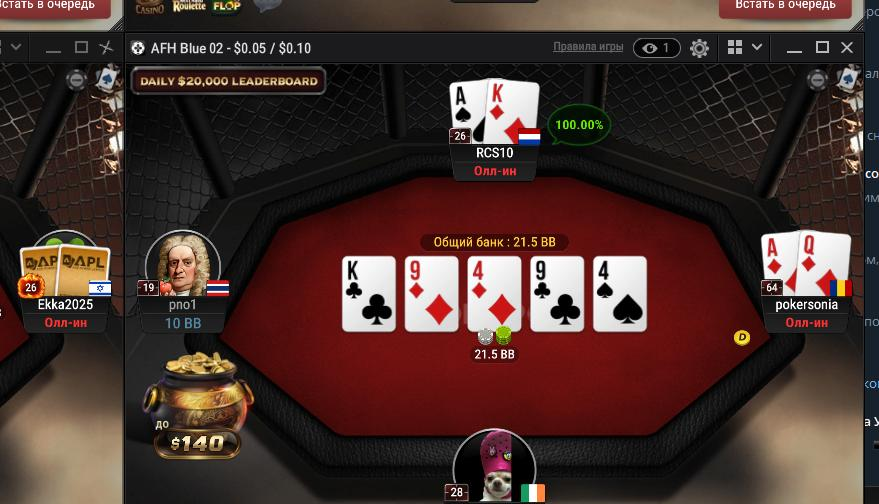4d: (467, 256, 521, 332)
4s: (593, 255, 646, 331)
9c: (531, 256, 583, 331)
9d: (404, 256, 458, 332)
Ad: (760, 232, 797, 296)
As: (450, 83, 487, 144)
Kc: (342, 257, 394, 331)
Kd: (487, 79, 536, 144)
Qd: (798, 229, 850, 297)
